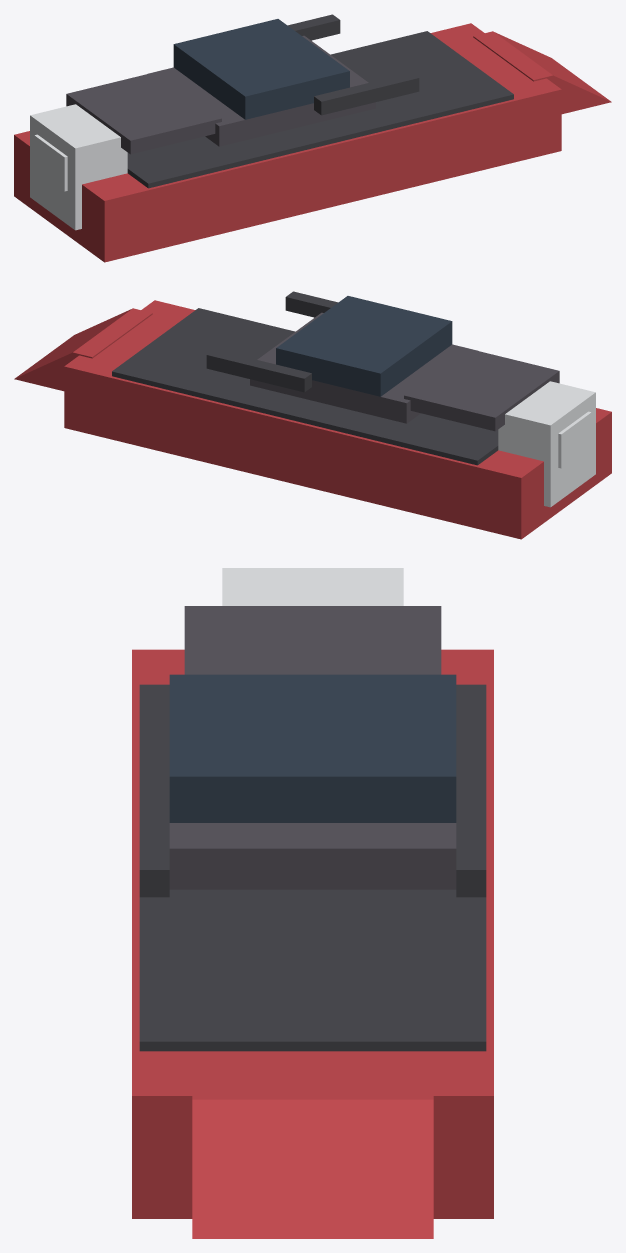
File: SM_Veh_Speedboat.fbx
3 renders of one model, top to bottom at view 1: azimuth 30°, elevation 25°; view 2: azimuth 150°, elevation 25°; view 3: azimuth 270°, elevation 25°, orthographic. The views are drawn at different scales.
Visible parts, largest first — view 1: SM_Veh_Speedboat; view 2: SM_Veh_Speedboat; view 3: SM_Veh_Speedboat.
Part boxes in pixels (<box>): SM_Veh_Speedboat: <box>14,14,611,262</box>; SM_Veh_Speedboat: <box>14,291,611,539</box>; SM_Veh_Speedboat: <box>132,568,493,1238</box>.
Size of the model in its own units: 815 by 240 by 179.
